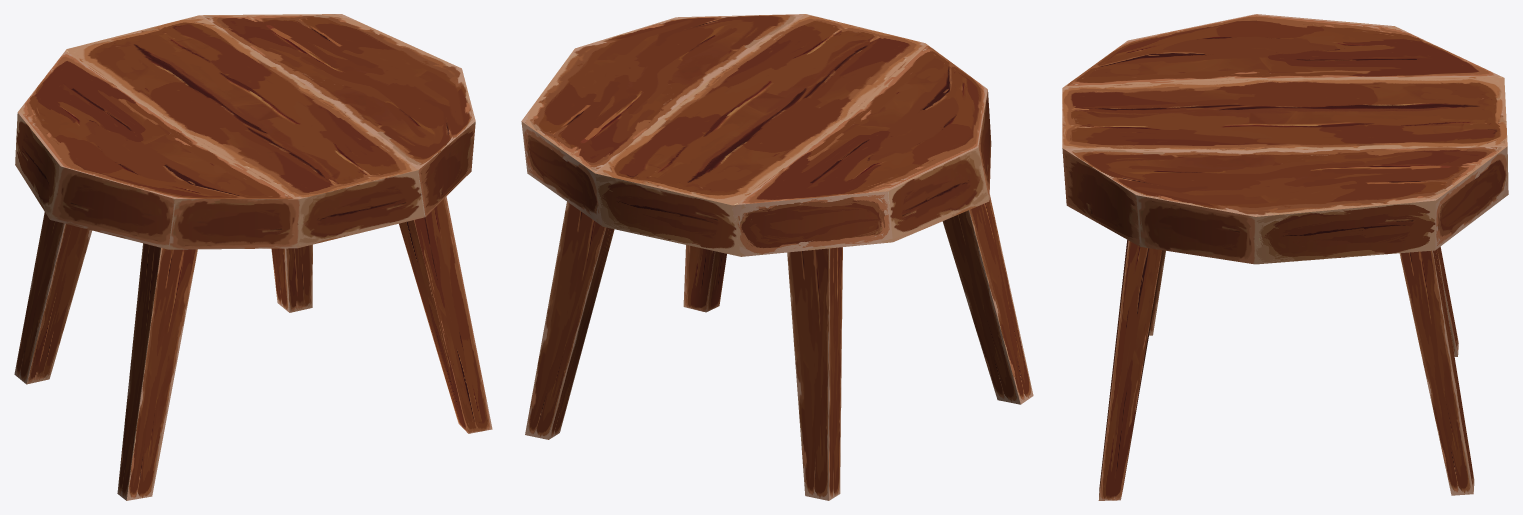
File: SM_PROP_table_04.fbx
The picture shows the model from 3 angles, left to right: view 1: azimuth 30°, elevation 25°; view 2: azimuth 150°, elevation 25°; view 3: azimuth 270°, elevation 25°; orthographic projection. The views are drawn at different scales.
Visible parts, largest first — view 1: SM_PROP_table_04; view 2: SM_PROP_table_04; view 3: SM_PROP_table_04.
Boxes of the visible parts, <box> form: SM_PROP_table_04: <box>14,14,492,500</box>; SM_PROP_table_04: <box>521,14,1033,500</box>; SM_PROP_table_04: <box>1062,14,1508,500</box>.
Bounding box in the file's own units: 64.27 × 43.98 × 57.98.
